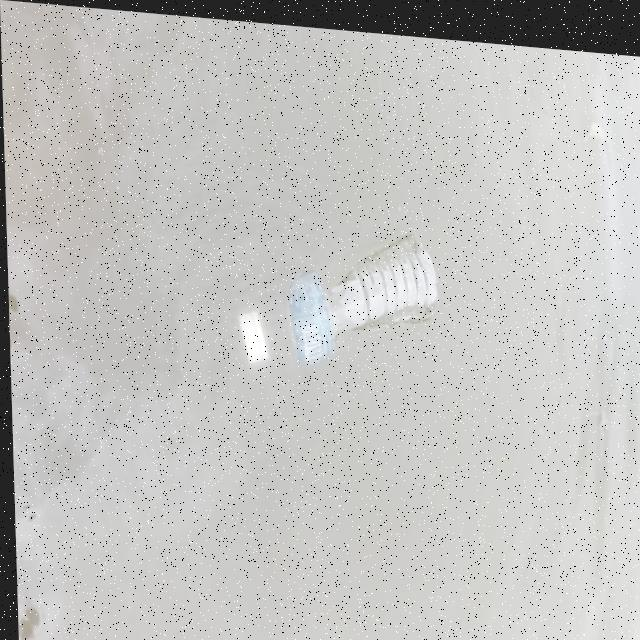waterbottle: (206, 182, 455, 379)
